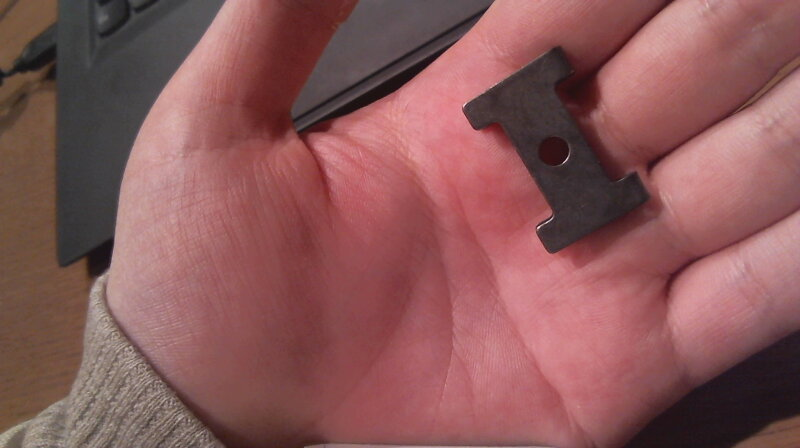O002: (456, 42, 655, 258)
